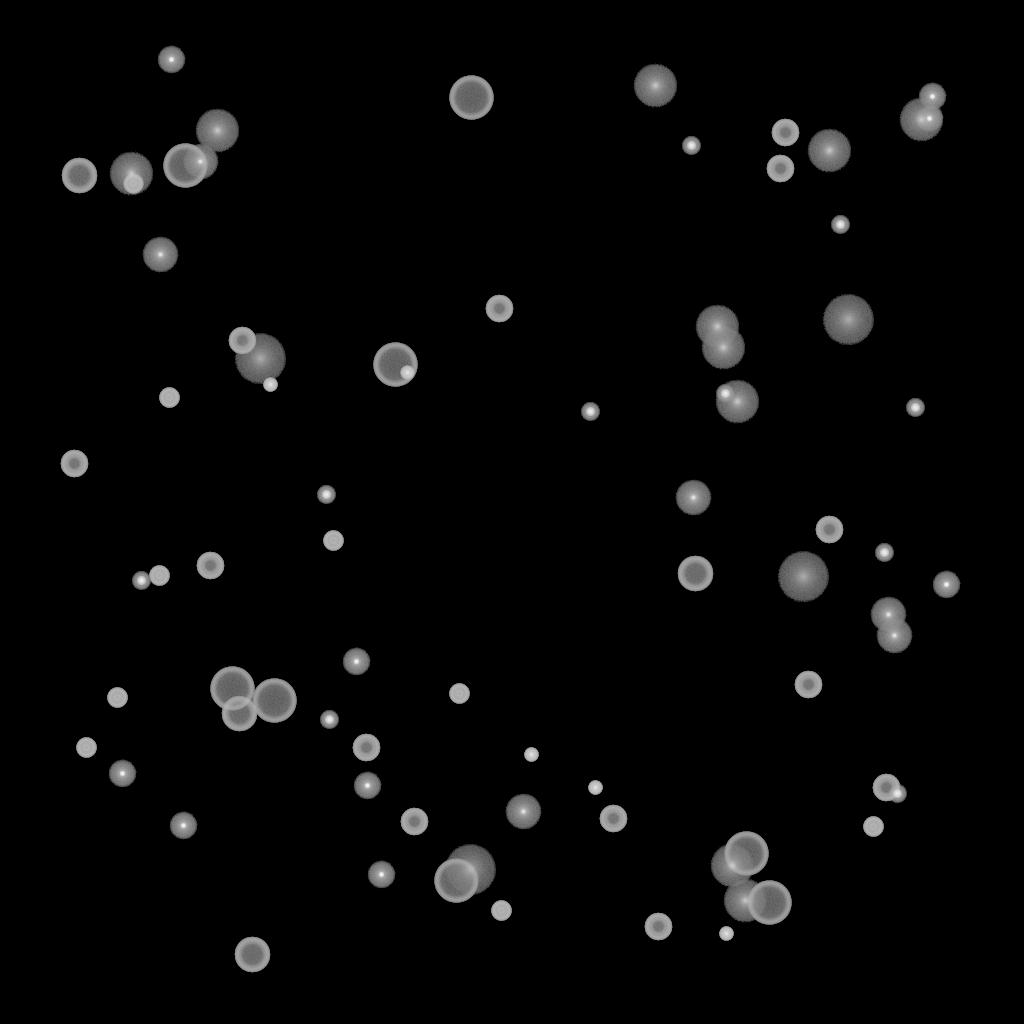depth:-10: (353, 772, 381, 800), (157, 46, 185, 74), (932, 571, 960, 599), (342, 648, 370, 676), (169, 812, 197, 840), (108, 760, 136, 788), (915, 105, 943, 133), (367, 861, 395, 889), (918, 83, 946, 111)
depth:-20: (320, 711, 338, 729), (317, 486, 335, 504), (831, 216, 849, 234), (581, 403, 599, 421), (888, 785, 906, 803), (716, 385, 734, 403), (906, 399, 924, 417), (875, 544, 893, 562), (682, 137, 700, 155), (132, 572, 150, 590)
depth:-30: (400, 366, 414, 380), (263, 378, 277, 392), (524, 748, 538, 762), (719, 927, 733, 941), (588, 781, 602, 795)
depth:-40: (76, 738, 96, 758), (159, 388, 179, 408), (123, 174, 143, 194), (449, 684, 469, 704), (107, 688, 127, 708), (149, 566, 169, 586), (323, 531, 343, 551), (863, 817, 883, 837), (491, 901, 511, 921)
depth:-50: (228, 327, 256, 355), (766, 155, 794, 183), (60, 450, 88, 478), (485, 295, 513, 323), (599, 805, 627, 833), (794, 671, 822, 699), (771, 119, 799, 147), (872, 774, 900, 802), (815, 516, 843, 544), (400, 808, 428, 836), (644, 913, 672, 941), (196, 552, 224, 580), (352, 734, 380, 762)
depth:-60: (677, 556, 713, 592), (221, 696, 257, 732), (61, 158, 97, 194), (234, 937, 270, 973)
depth:-70: (163, 144, 207, 188), (724, 832, 768, 876), (449, 76, 493, 120), (434, 859, 478, 903), (252, 679, 296, 723), (747, 881, 791, 925), (373, 343, 417, 387), (210, 667, 254, 711)
depth:0: (870, 597, 906, 633), (142, 237, 178, 273), (876, 618, 912, 654), (675, 480, 711, 516), (182, 144, 218, 180), (505, 794, 541, 830)
depth:10: (633, 64, 677, 108), (701, 326, 745, 370), (899, 98, 943, 142), (109, 152, 153, 196), (695, 305, 739, 349), (723, 879, 767, 923), (710, 844, 754, 888), (195, 109, 239, 153), (715, 380, 759, 424), (807, 129, 851, 173)
depth:20: (822, 295, 874, 345), (777, 552, 829, 602), (234, 334, 286, 384), (444, 845, 496, 895)
